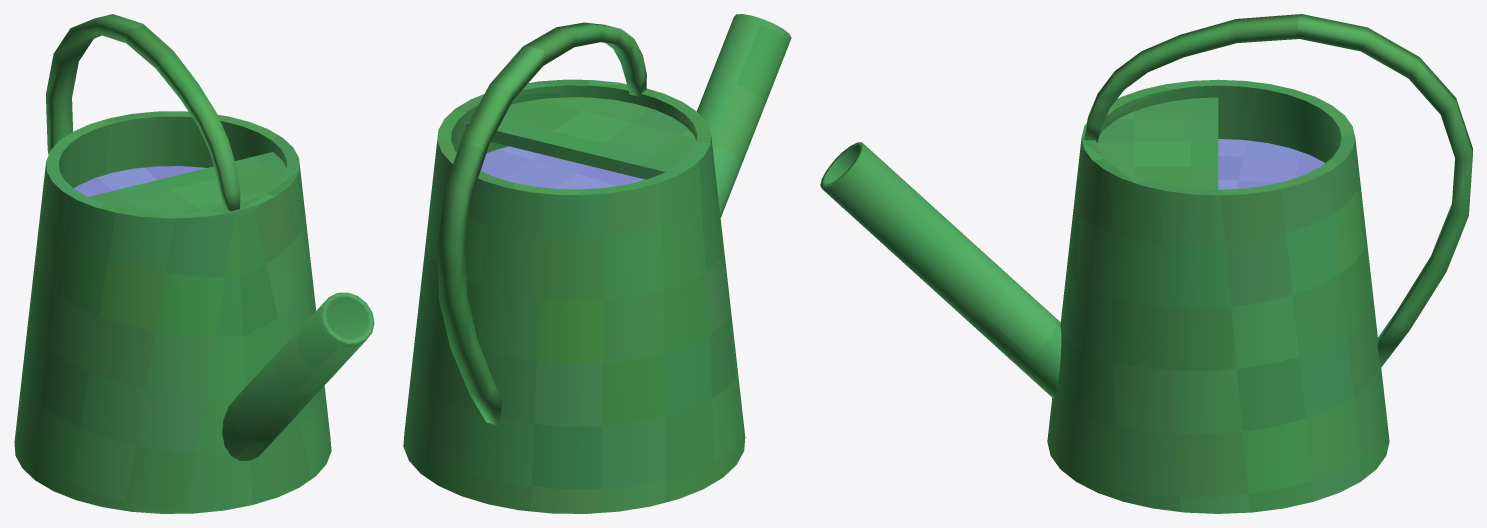
Rendered from watering_can.fbx.
3 renders of one model, left to right at view 1: azimuth 30°, elevation 25°; view 2: azimuth 150°, elevation 25°; view 3: azimuth 270°, elevation 25°, orthographic. The views are drawn at different scales.
Visible parts, largest first — view 1: watering_can; view 2: watering_can; view 3: watering_can.
Boxes of the visible parts, x1,y1,x2,y2 form: watering_can: [14, 14, 374, 513]; watering_can: [403, 14, 791, 513]; watering_can: [820, 14, 1472, 513].
Size of the model in its own units: 25 by 34.08 by 47.67.
